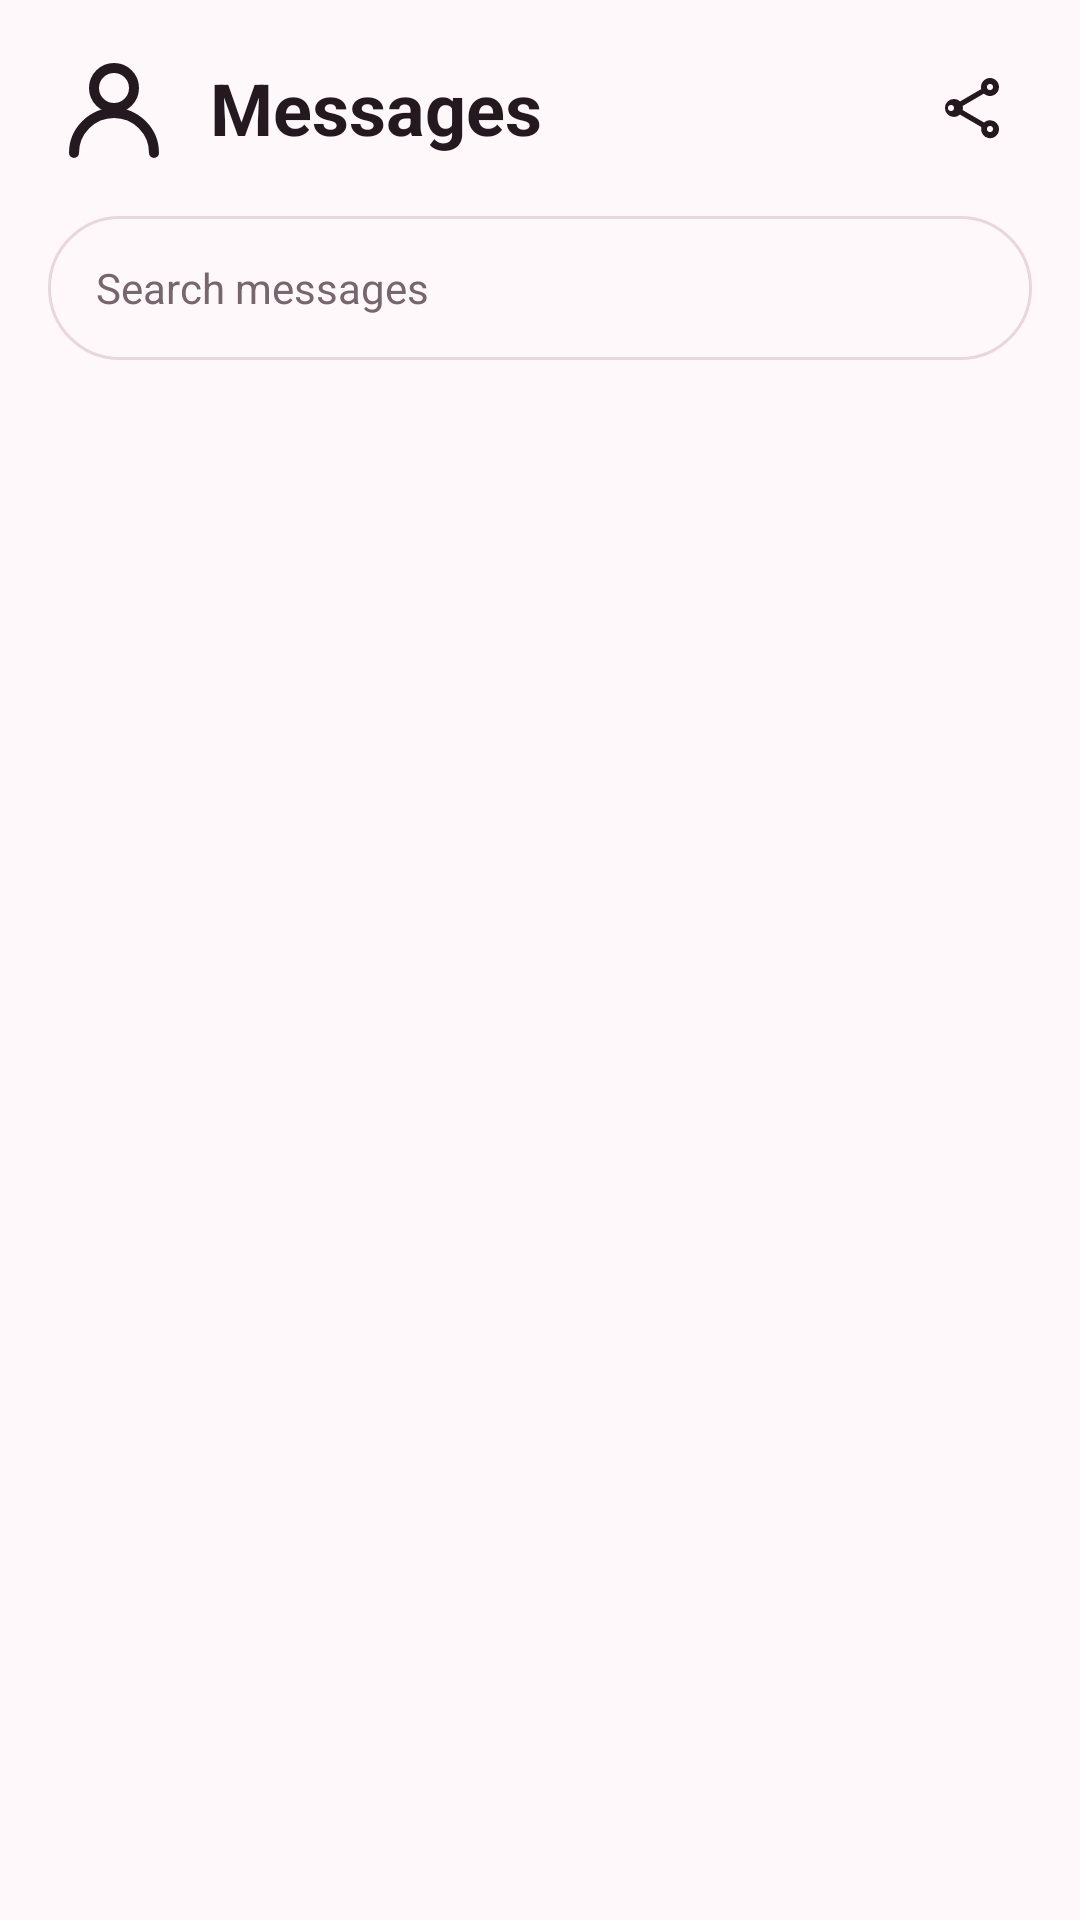

Named icons in this screenshot (1080 × 1920) and their bounding boxes, (x1=x1, y1=y1, x2=x2, y2=y2):
Profile picture: (x1=69, y1=63, x2=159, y2=158)
